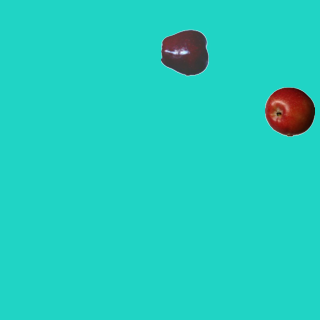Apple Braeburn: (264, 86, 314, 136)
Apple Red Delicious: (160, 27, 210, 77)
